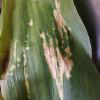Corn leaf blight: (7, 0, 95, 99)
